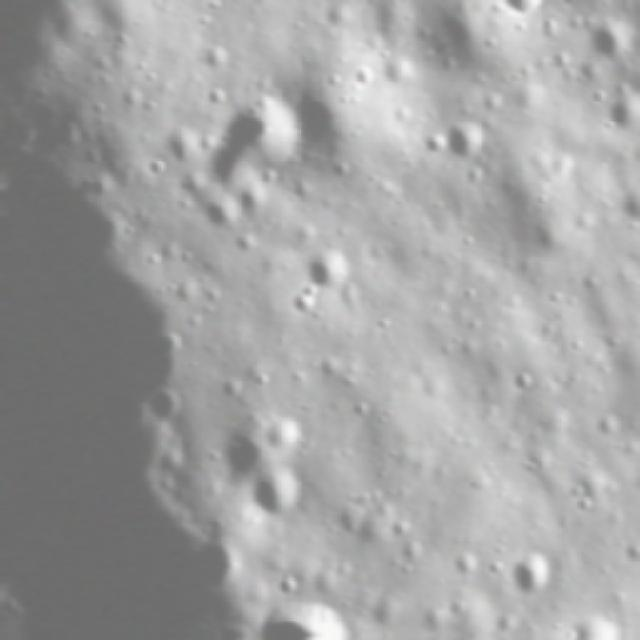crater: (252, 82, 365, 193), (222, 430, 276, 487), (303, 250, 362, 301), (438, 114, 489, 171), (254, 472, 306, 525), (509, 550, 554, 604), (451, 552, 478, 582)
